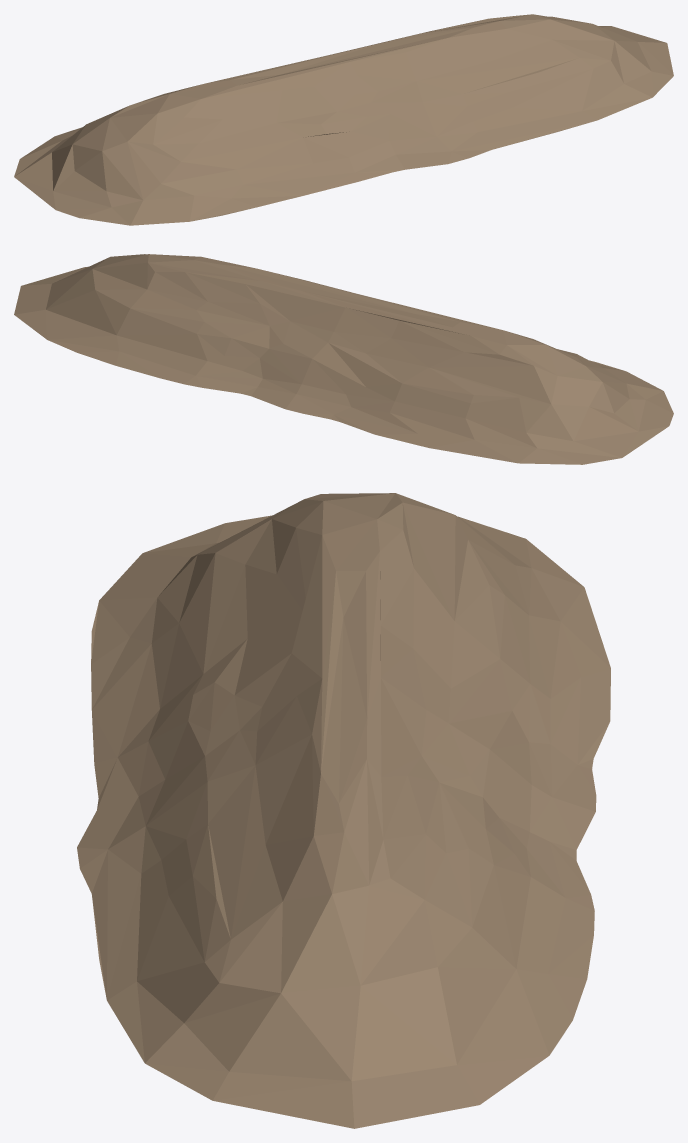
Rendered from SM_Prop_Barrier_Base_Dirt_01.glb.
3 renders of one model, top to bottom at view 1: azimuth 30°, elevation 25°; view 2: azimuth 150°, elevation 25°; view 3: azimuth 270°, elevation 25°, orthographic. The views are drawn at different scales.
Visible parts, largest first — view 1: SM_Prop_Barrier_Base_Dirt_01; view 2: SM_Prop_Barrier_Base_Dirt_01; view 3: SM_Prop_Barrier_Base_Dirt_01.
Part boxes in pixels (x1,y1,x2,y2): SM_Prop_Barrier_Base_Dirt_01: (14,14,673,225); SM_Prop_Barrier_Base_Dirt_01: (14,254,673,464); SM_Prop_Barrier_Base_Dirt_01: (77,493,610,1128).
Size of the model in its own units: 6.56 by 0.6637 by 2.41.
1 material, 1 textured.
